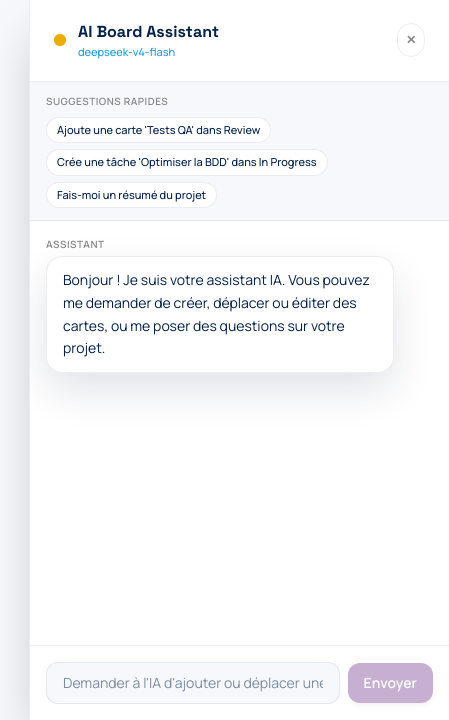
Test: KanbanChatSidebar › renders structured markdown with bold highlights and bullet points
Type "Résumé" into the field with placeholder "Demander à l'IA d'ajouter ou déplacer une carte...". click: (193, 683)
box: x1=46 y1=662 x2=340 y2=704
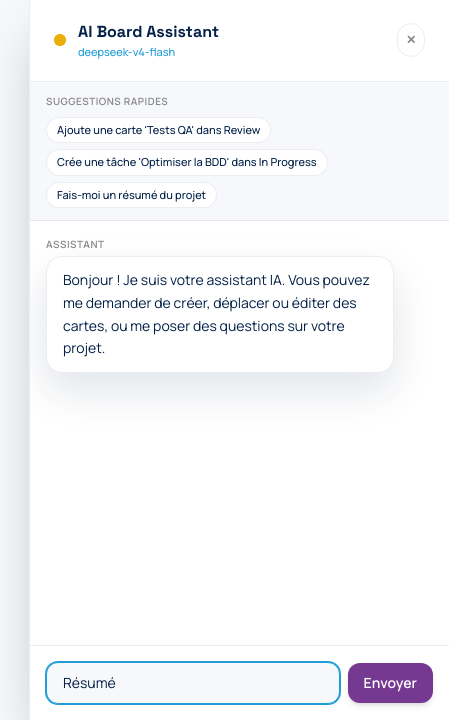
Click the button "Envoyer". click: (390, 683)
box: x1=348 y1=663 x2=433 y2=703
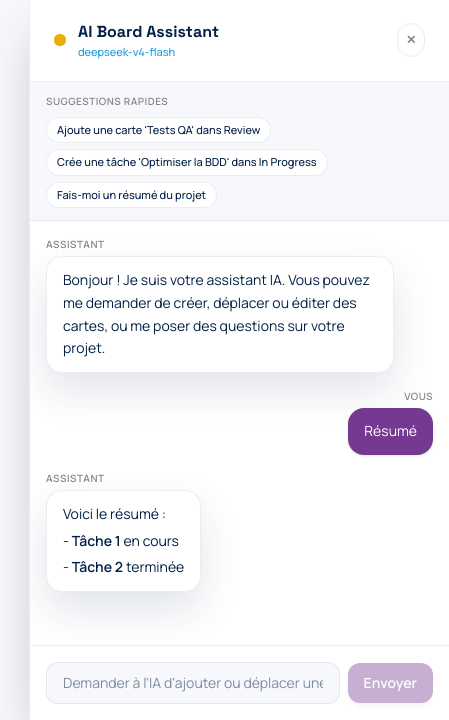
Result: the text "Voici le résumé :" is shown at x1=63 y1=504 x2=166 y2=523
Result: the text "Tâche 1" is shown at x1=72 y1=530 x2=121 y2=550
Result: the text "Tâche 2" is shown at x1=72 y1=557 x2=123 y2=576
